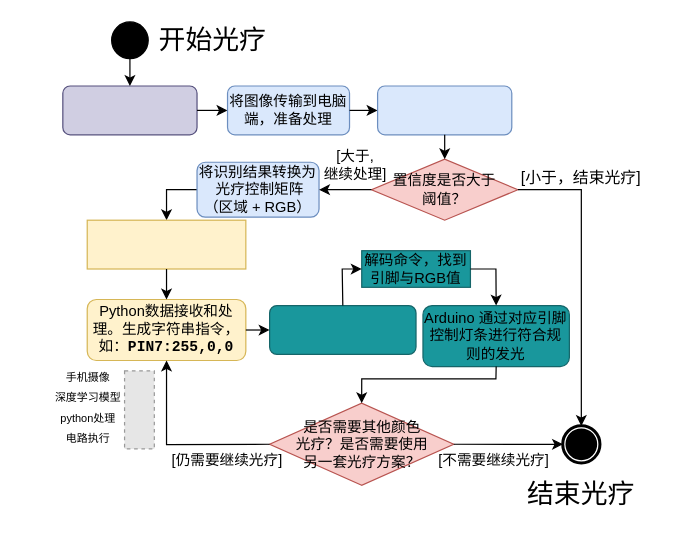
Some shapes in this 699 by 533 pixel diagram are drawn without their labels. Grey dashed boxes stand in for pictures. Here are the shapes that lost their labels. From the top down, the centre of each, then its label:
point 129,110: 用户使用手机拍照获取面部图像
point 444,110: 图像分割为多区域，使用模型识别皮肤状态
point 166,244: 4纵行矩阵 (区域, 红色, 绿色, 蓝色)
point 342,329: 通过 bleak 使用 BLE 方式传输至 Arduino
